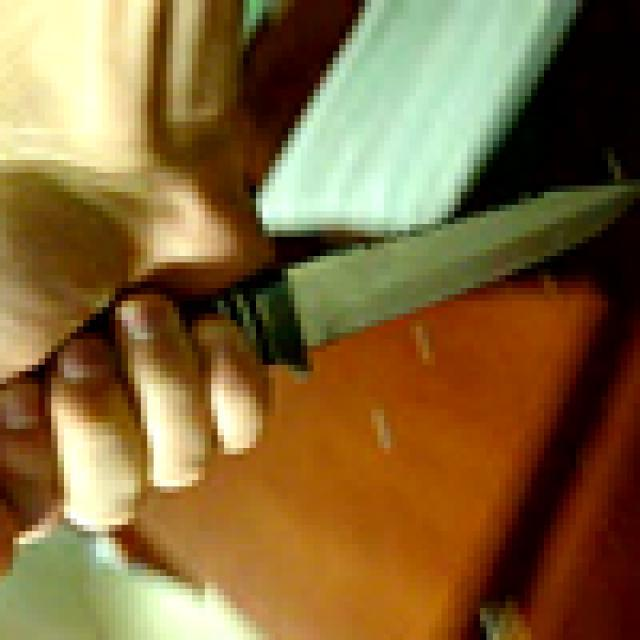Knife: (6, 173, 640, 416)
